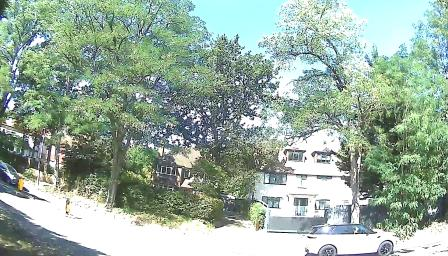Cars: (303, 222, 393, 256), (0, 156, 23, 194)
